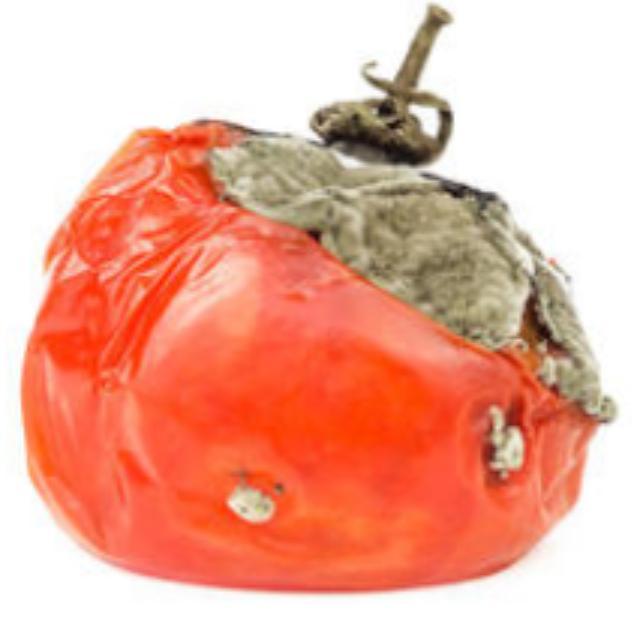defect: (17, 5, 609, 598)
